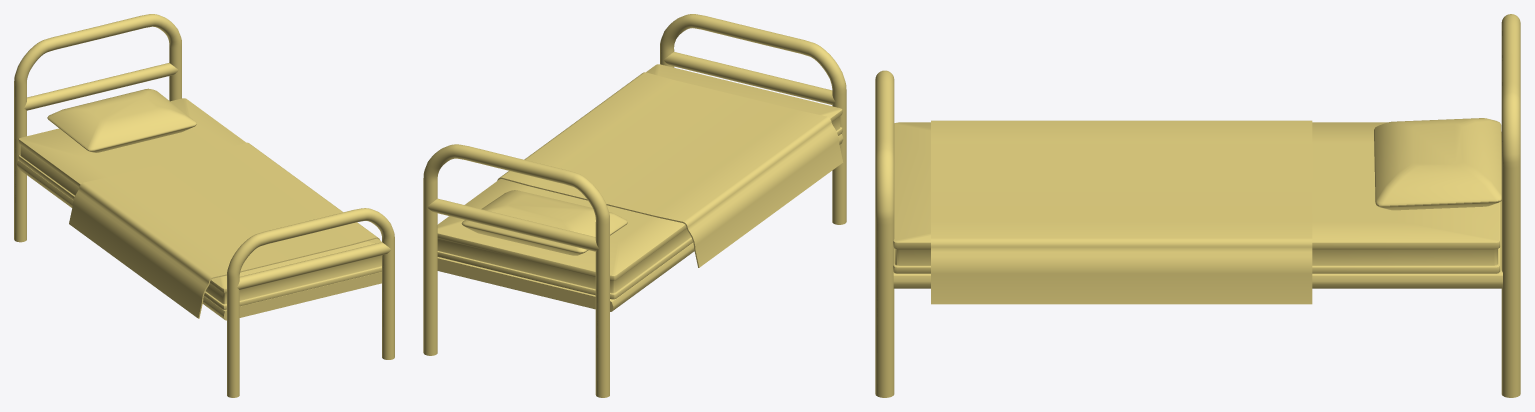
The model's file is bed.fbx.
3 views of the same model, side by side, from view 1: azimuth 30°, elevation 25°; view 2: azimuth 150°, elevation 25°; view 3: azimuth 270°, elevation 25° (orthographic). The views are drawn at different scales.
Parts seen in each view (by area): view 1: Cylinder; view 2: Cylinder; view 3: Cylinder.
Part boxes in pixels (box(x1,y1,x2,y2)): Cylinder: box(14, 14, 394, 397); Cylinder: box(423, 14, 846, 397); Cylinder: box(875, 14, 1520, 397).
Size of the model in its own units: 149 by 144 by 295.
